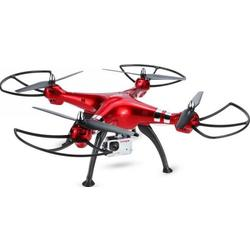drone: (1, 63, 249, 188)
